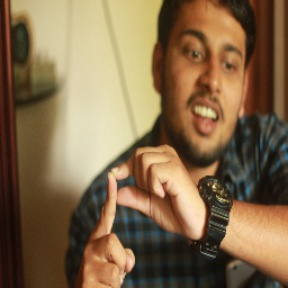P: (85, 144, 195, 279)
